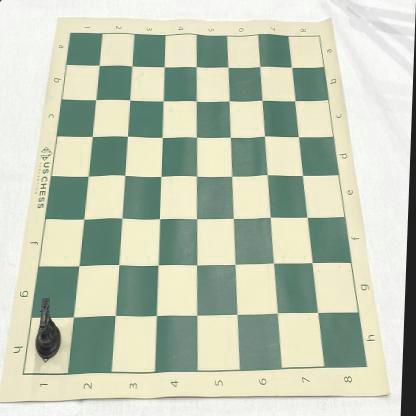black-knight: (38, 298, 66, 360)
